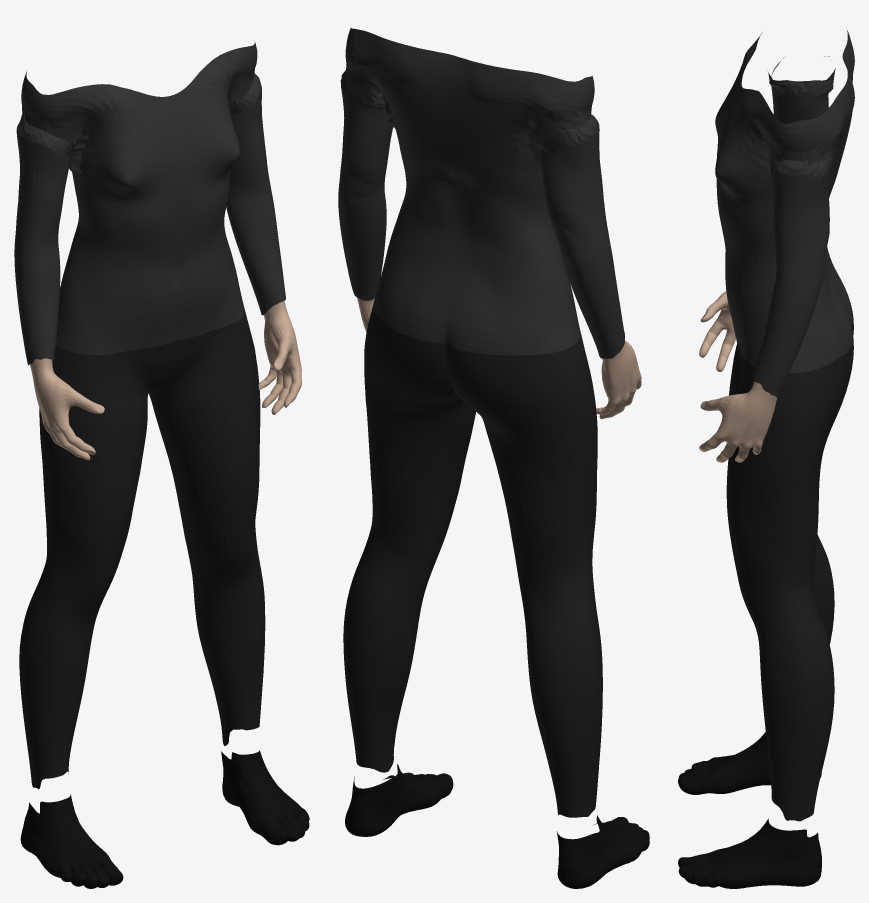
File: hd_f_light_body.glb
The picture shows the model from 3 angles, left to right: view 1: azimuth 30°, elevation 25°; view 2: azimuth 150°, elevation 25°; view 3: azimuth 270°, elevation 25°; orthographic projection. The views are drawn at different scales.
Parts seen in each view (by area): view 1: outfit, shoes, bodyskin; view 2: outfit, shoes, bodyskin; view 3: outfit, shoes, bodyskin.
Boxes of the visible parts, x1,y1,x2,y2 form: outfit: (14,41,285,788); shoes: (20,750,309,888); bodyskin: (30,301,301,460); outfit: (338,28,624,817); shoes: (345,764,649,888); bodyskin: (357,297,641,419); outfit: (715,28,854,821); shoes: (678,732,821,888); bodyskin: (699,291,777,462).
Bounding box in the file's own units: 0.4859 × 1.41 × 0.2905.
